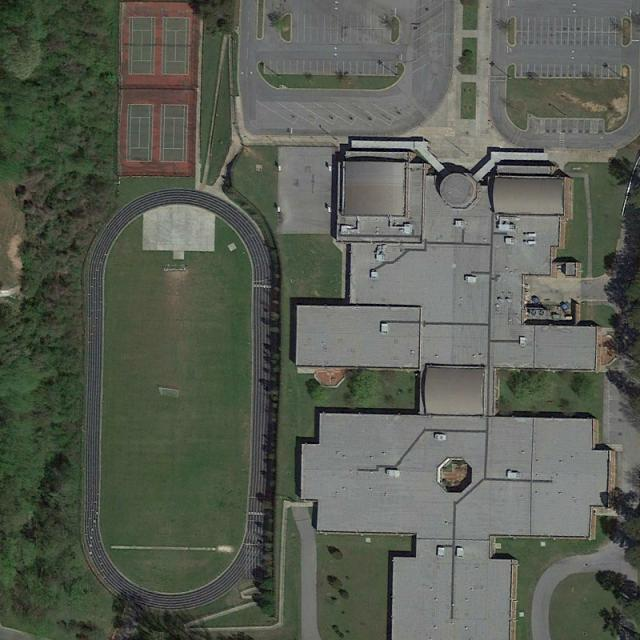vehicle: (560, 302, 571, 315), (532, 298, 540, 307)
